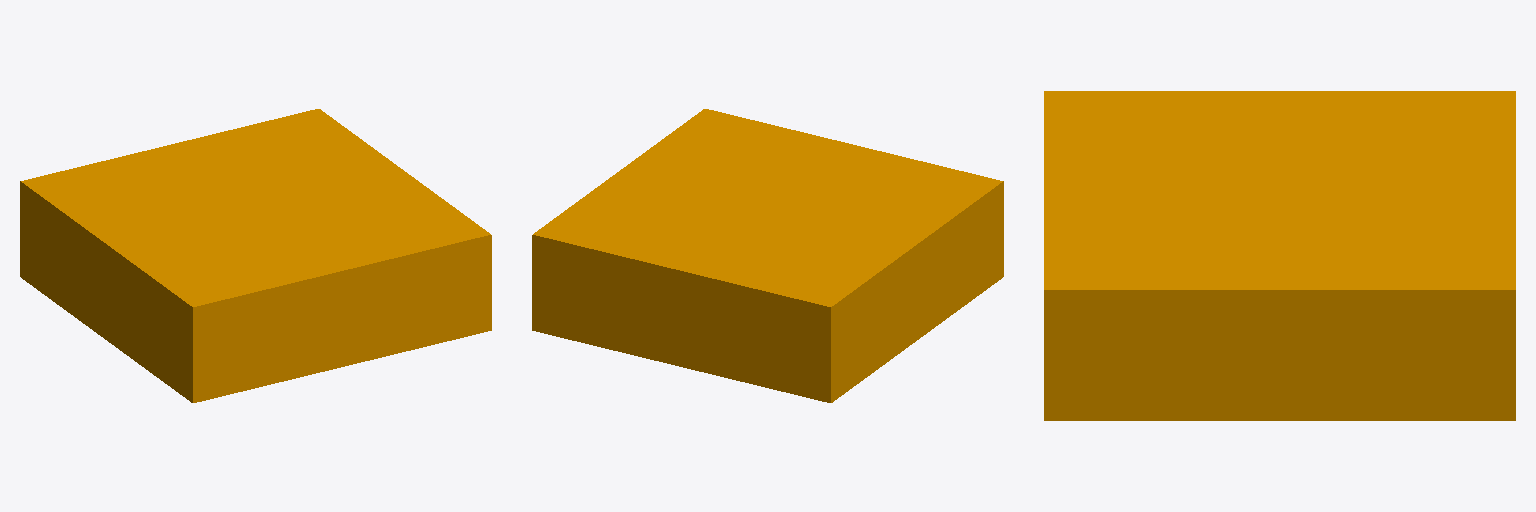
robot.urdf — red_box:
<?xml version="1.0"?>
<robot name="red_box">

<link name="base_link">
  <collision>
    <origin xyz="0 0 0.01" rpy="0 0 0"/>
    <geometry>
      <box size="0.065 0.065 0.02" />
    </geometry>
  </collision>

  <visual>
    <origin xyz="0 0 0.01" rpy="0 0 0"/>
    <geometry>
      <box size="0.065 0.065 0.02" />
    </geometry>
  </visual>

  <inertial>
    <origin xyz="0 0 0.01" rpy="0 0 0" />
    <mass value="0.010" />
    <inertia
      ixx="0.001" ixy="0.0"  ixz="0.0"
      iyy="0.001" iyz="0.0"
      izz="0.001" />
  </inertial>
  </link>

<gazebo reference="base_link">
  <material>Gazebo/Red</material>
    <mu1>10000</mu1>
    <mu2>10000</mu2>
</gazebo>

</robot>

--- Render facts (derived) ---
3 views of the same robot in one strip: view 1: azimuth 30°, elevation 25°; view 2: azimuth 150°, elevation 25°; view 3: azimuth 270°, elevation 25° (orthographic).
Model red_box with 1 links and 0 joints (none), rooted at base_link, posed all joints at 0.
Visible links, largest first — view 1: base_link; view 2: base_link; view 3: base_link.
Link boxes in pixels (x1,y1,x2,y2): base_link: (20, 109, 491, 402); base_link: (532, 109, 1003, 402); base_link: (1044, 91, 1515, 420).
Bounding box of the posed robot: 0.065 × 0.065 × 0.02 m (x, y, z).
Geometry: primitives only (box / cylinder / sphere), no mesh files.